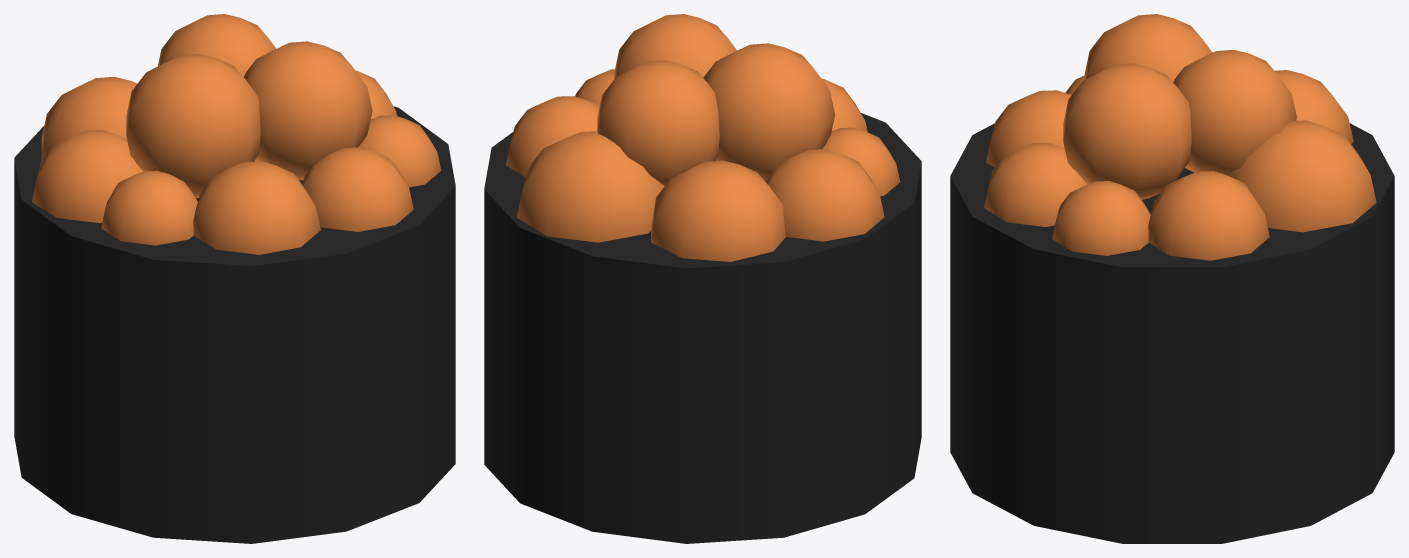
File: sea_urchin_roll.glb
3 views of the same model, side by side, from view 1: azimuth 30°, elevation 25°; view 2: azimuth 150°, elevation 25°; view 3: azimuth 270°, elevation 25° (orthographic).
Visible parts, largest first — view 1: Food_SeaUrchinRoll; view 2: Food_SeaUrchinRoll; view 3: Food_SeaUrchinRoll.
Part boxes in pixels (left/top/right/bottom): Food_SeaUrchinRoll: left=14, top=14, right=455, bottom=543; Food_SeaUrchinRoll: left=484, top=14, right=921, bottom=543; Food_SeaUrchinRoll: left=950, top=14, right=1394, bottom=543.
Size of the model in its own units: 0.4928 by 0.5114 by 0.5055.
Materials: 1 (1 with a texture image).
